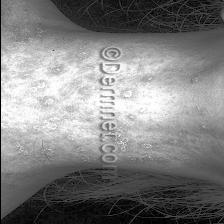Non-Cancerous Skin Condition: (1, 33, 92, 166), (125, 55, 224, 167), (0, 172, 31, 200)
